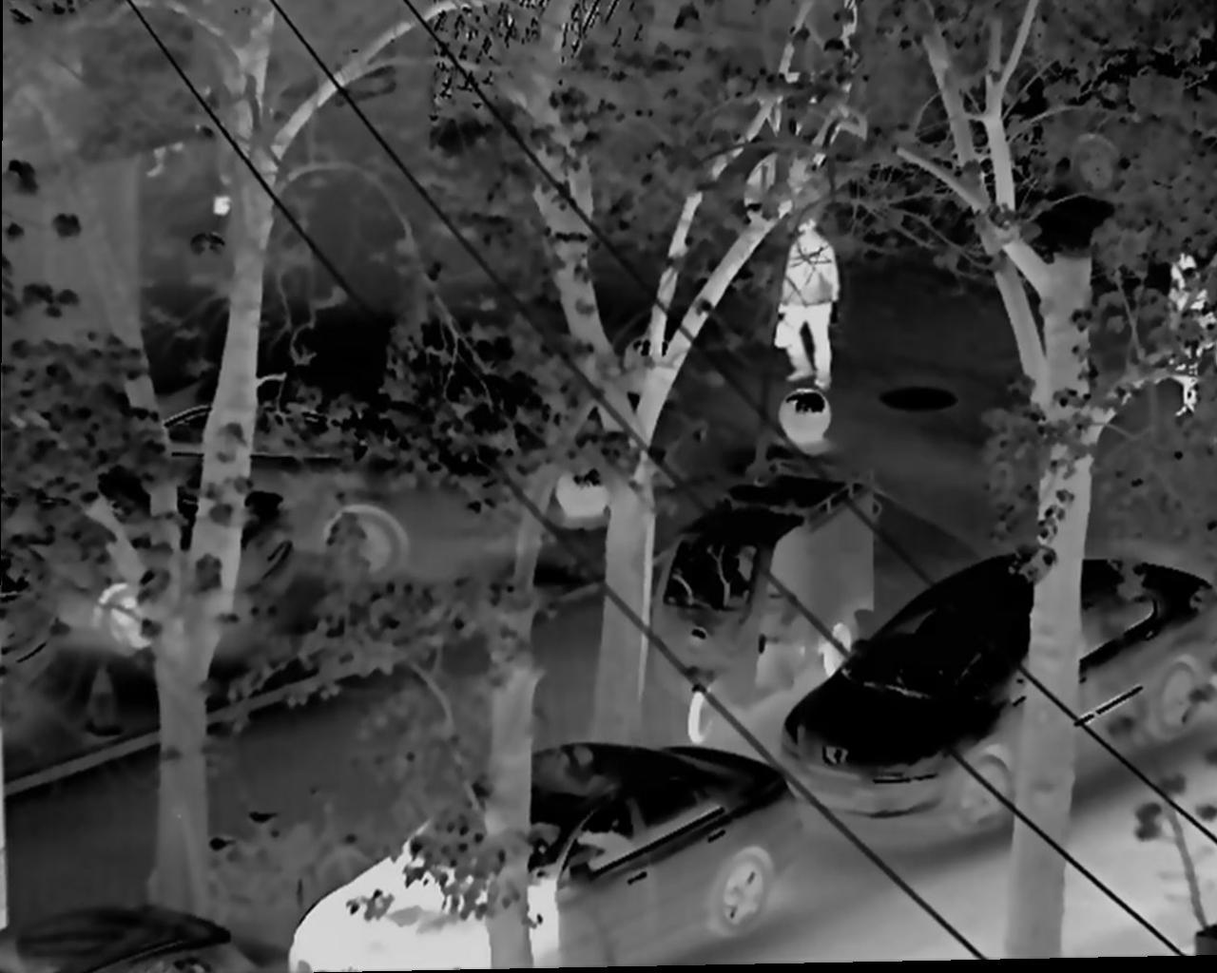person: (773, 200, 840, 404), (1145, 244, 1216, 425)
